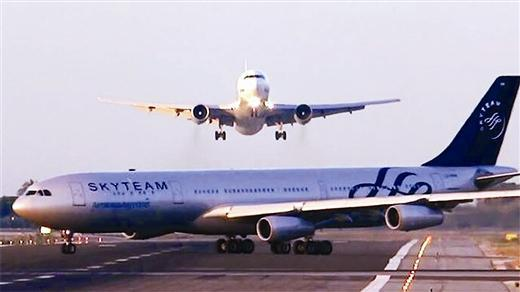airplane: (10, 71, 520, 257), (94, 64, 400, 143)
